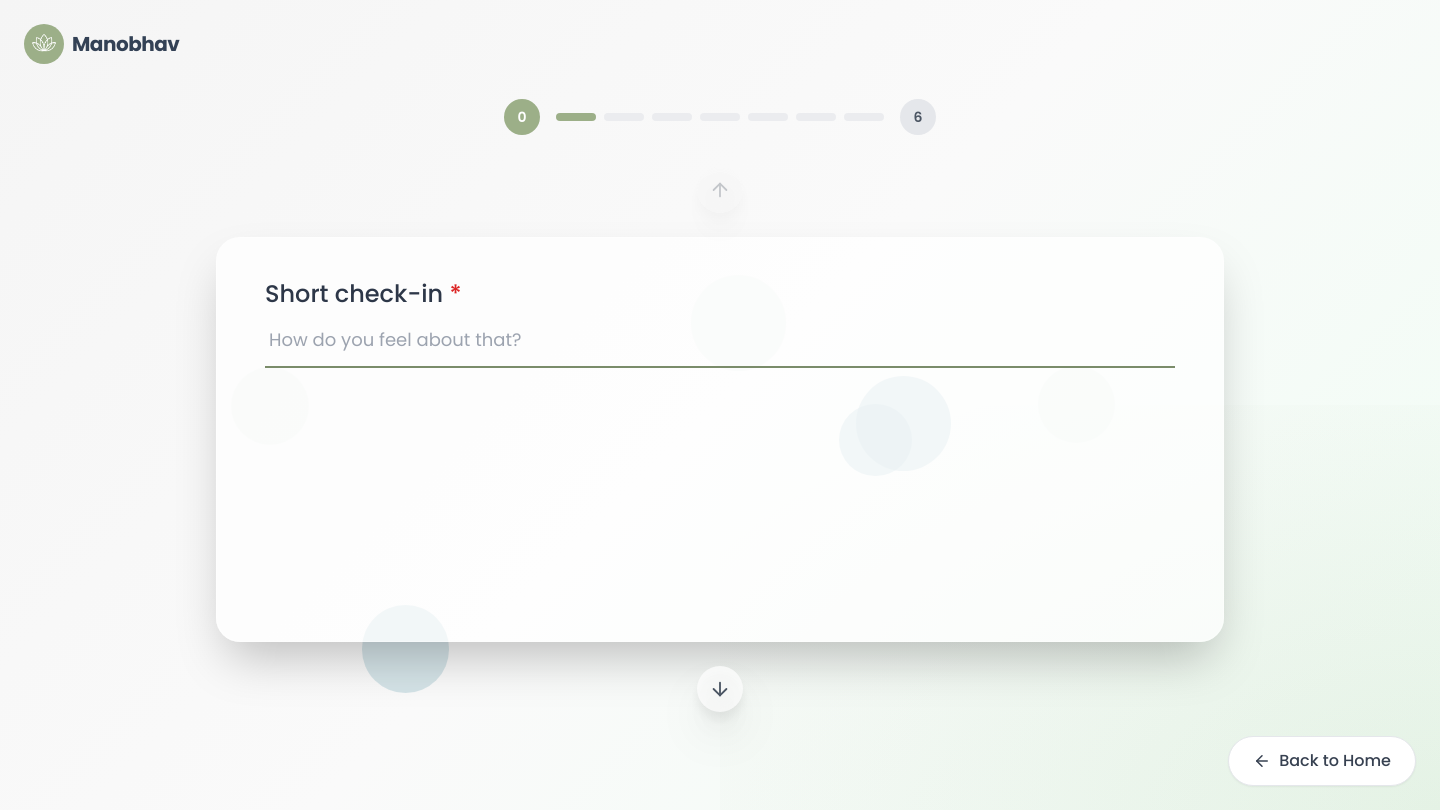
Test: patient journey intake inputs › marks required visitor questions with a red star and leaves optional questions unmarked
In the field named "short check-in": [720, 346] box top-left (265, 326), bottom-right (1175, 368), type "Feeling steady"
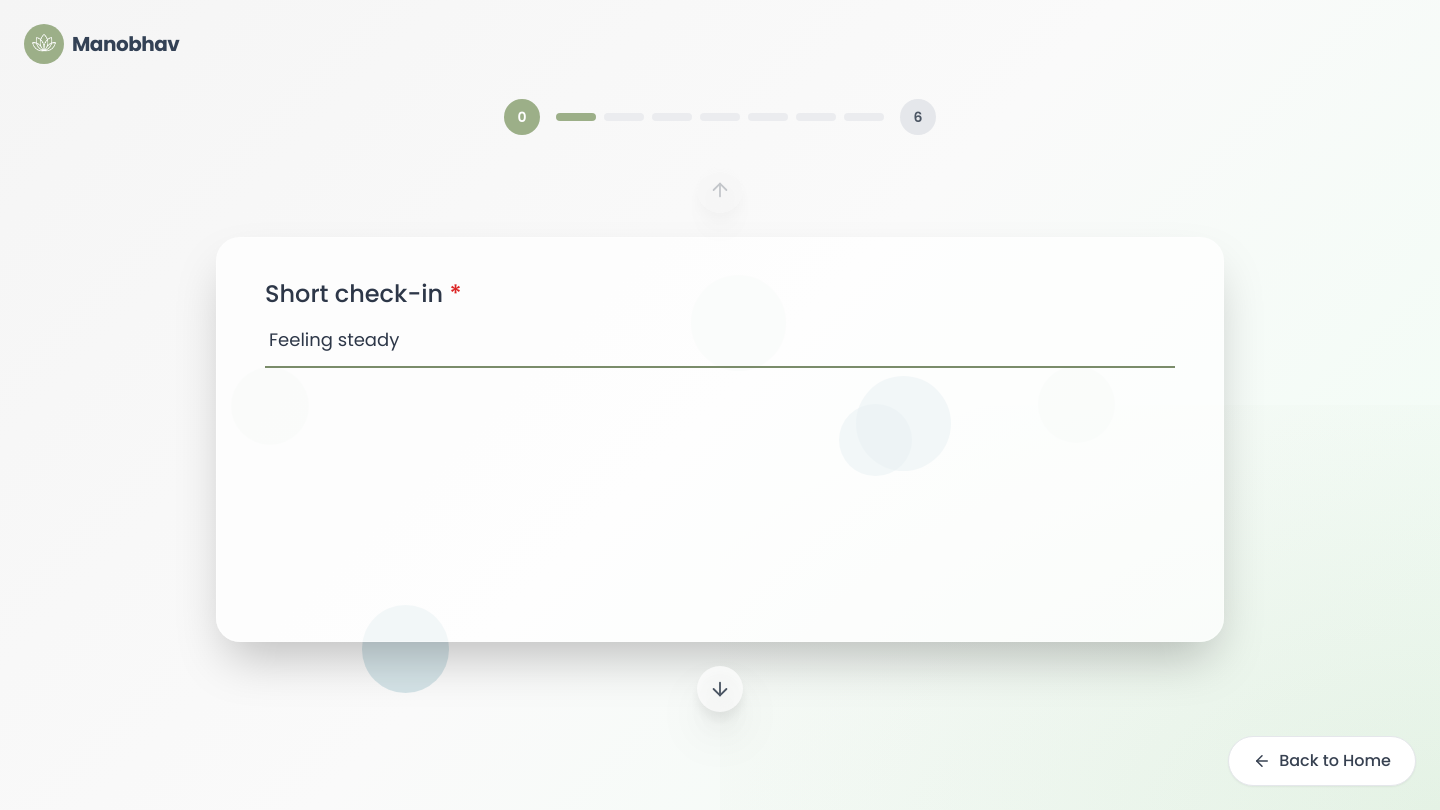
Click the button named "next question": [720, 688] box top-left (697, 666), bottom-right (743, 712)
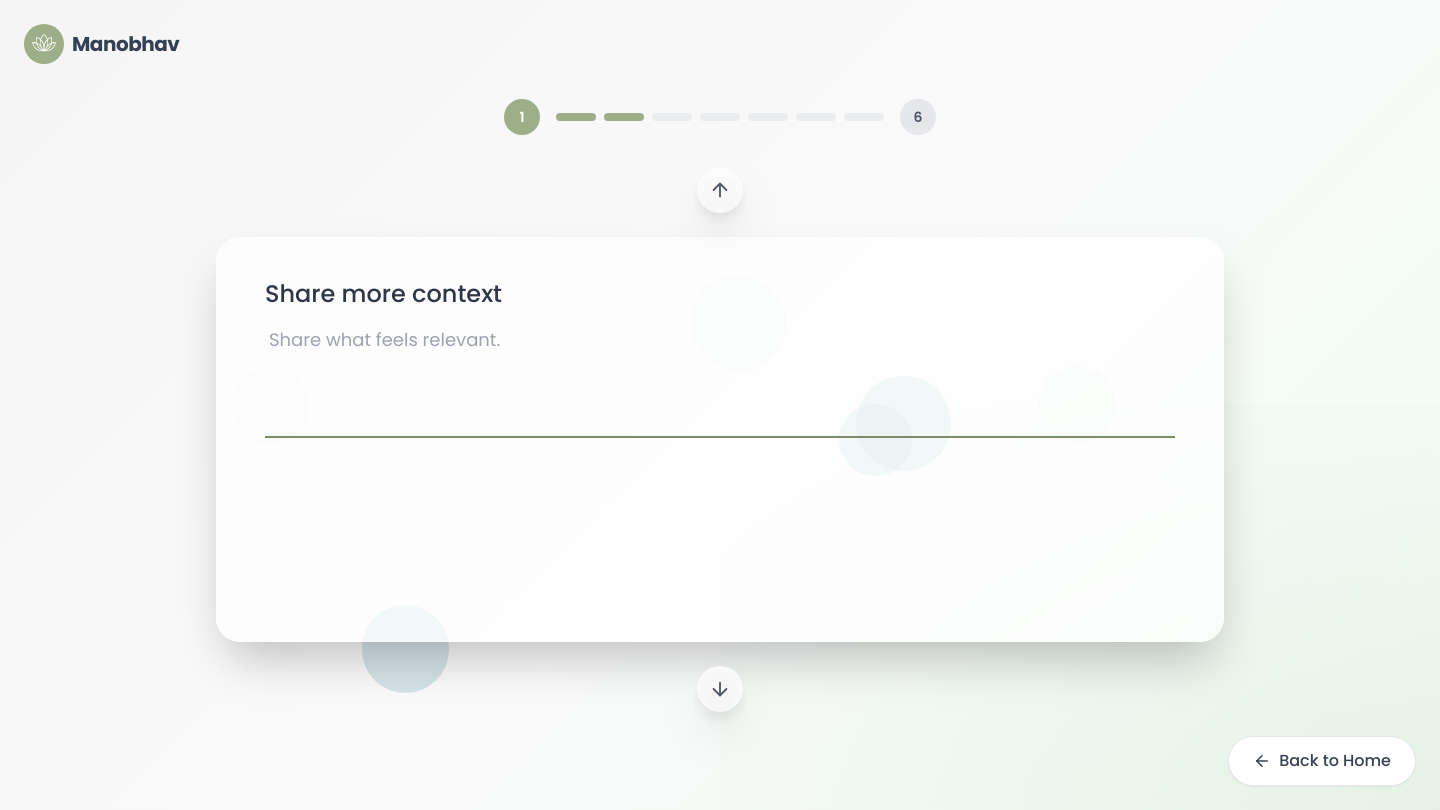
Expected: the text "*" is gone
